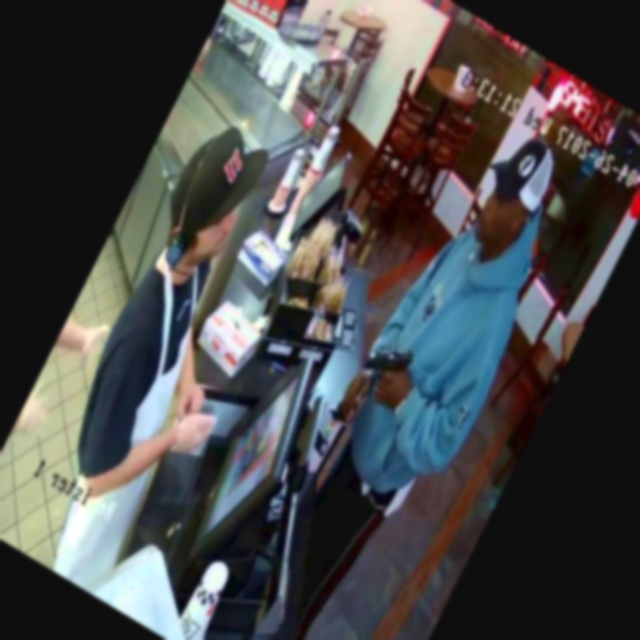gun: (338, 301, 441, 425)
